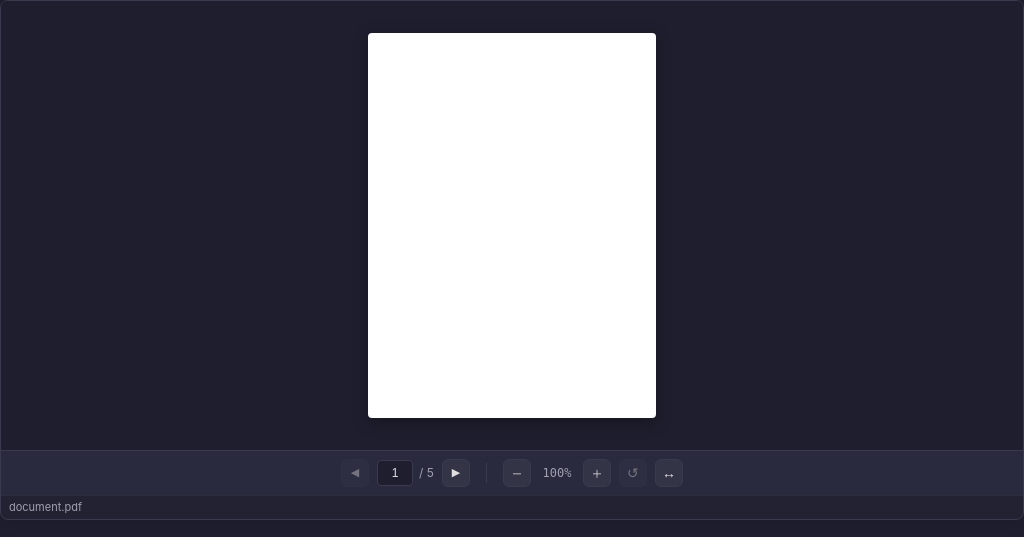
Integration inside RenderFile.svelte › does not navigate when a control inside the card is clicked
// Paging the document is not a request to open the card.
Click the button titled "Next Page": (456, 473) [442, 459, 470, 487]
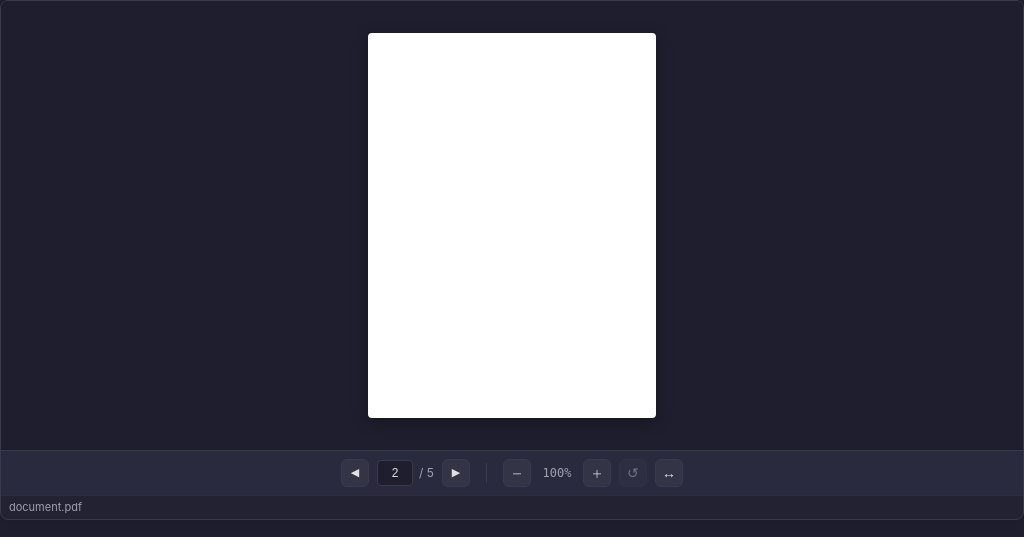
Check: the field showing "2" is shown, box [377, 460, 413, 486]
